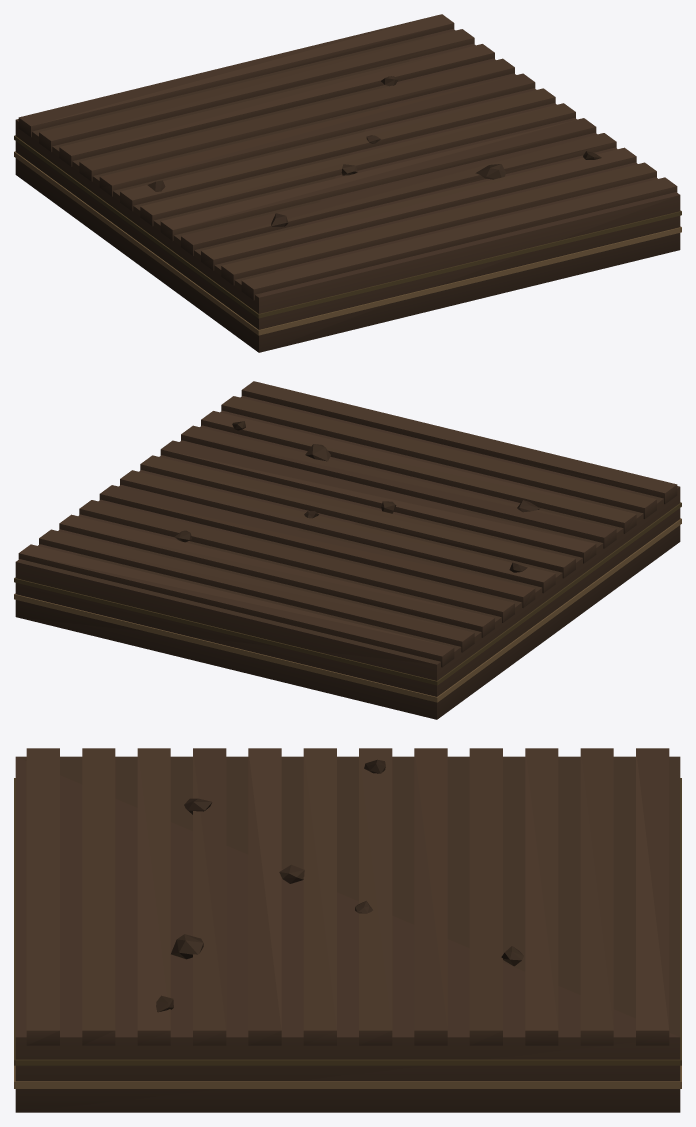
Rendered from ploughed-field.glb.
3 views of the same model, one above another, from view 1: azimuth 30°, elevation 25°; view 2: azimuth 150°, elevation 25°; view 3: azimuth 270°, elevation 25° (orthographic). The views are drawn at different scales.
Parts seen in each view (by area): view 1: ploughed_field; view 2: ploughed_field; view 3: ploughed_field.
Boxes of the visible parts, bbox=[...] form: ploughed_field: bbox=[14, 14, 681, 352]; ploughed_field: bbox=[14, 381, 681, 719]; ploughed_field: bbox=[14, 748, 681, 1112].
Bounding box in the file's own units: 4.02 × 0.6269 × 4.02.
